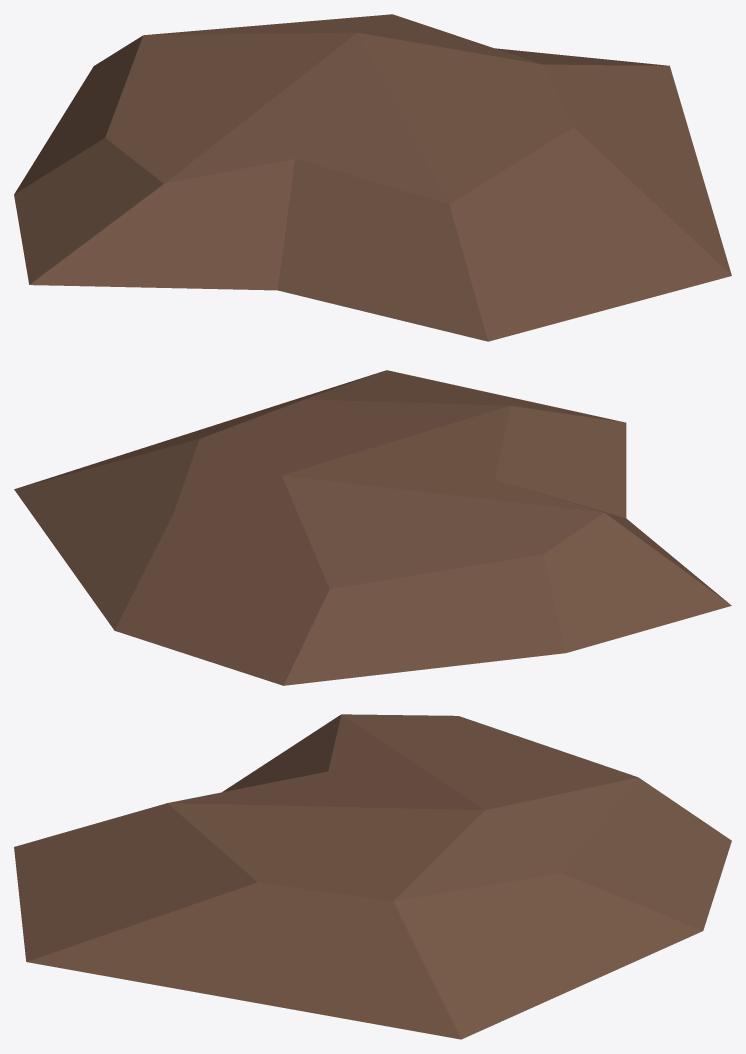
The model's file is pebble4.glb.
3 renders of one model, top to bottom at view 1: azimuth 30°, elevation 25°; view 2: azimuth 150°, elevation 25°; view 3: azimuth 270°, elevation 25°, orthographic. The views are drawn at different scales.
Visible parts, largest first — view 1: pebble4; view 2: pebble4; view 3: pebble4.
Part boxes in pixels (x1,y1,x2,y2): pebble4: (14,14,731,341); pebble4: (14,370,731,685); pebble4: (14,714,731,1039).
Size of the model in its own units: 0.5166 by 0.068 by 0.4835.
